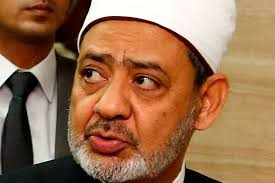middle_eastern_male: (76, 22, 187, 176)
